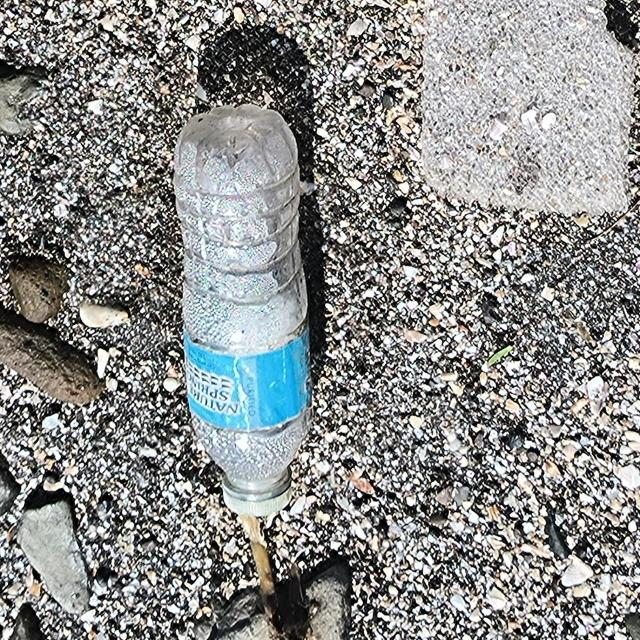plastic_waste: (172, 103, 316, 522)
